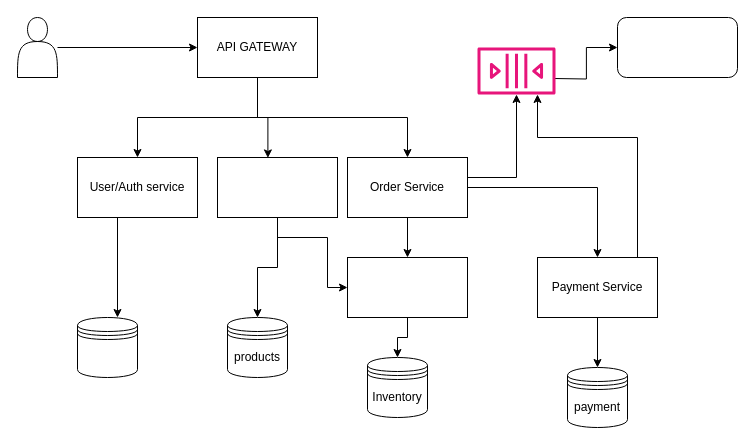
The diagram is 755 pixels wide and 445 high, and some of its shapes have lost their labels. The box of each missing label's shape, as (x1, y1, x2, y2) in pixels:
Inventory Serivce: (346, 256, 468, 318)
Notification service: (616, 16, 738, 78)
Product service: (216, 156, 338, 218)
user Db: (76, 316, 138, 378)
